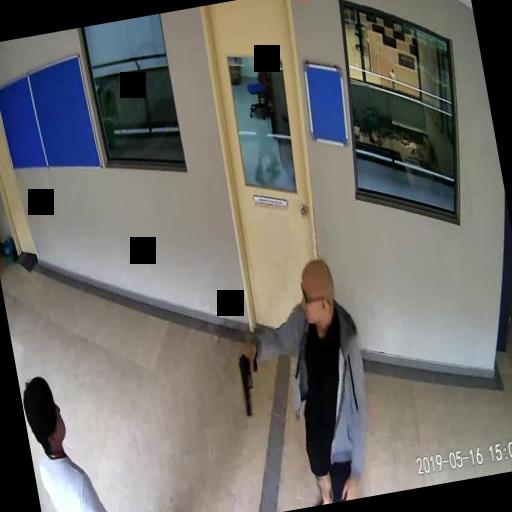Handgun: (233, 347, 264, 415)
